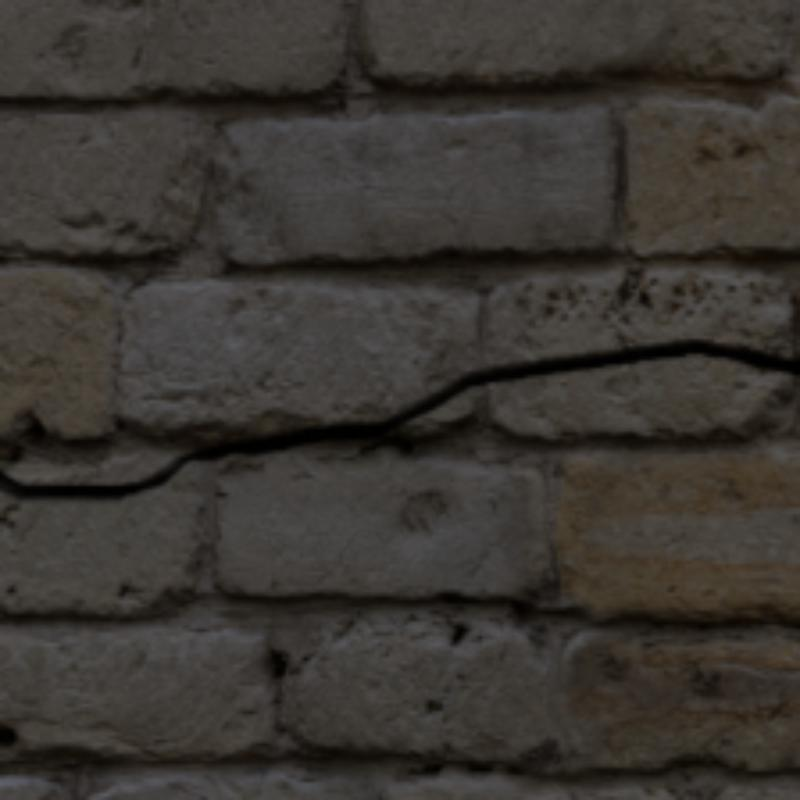crack: (0, 339, 796, 496)
